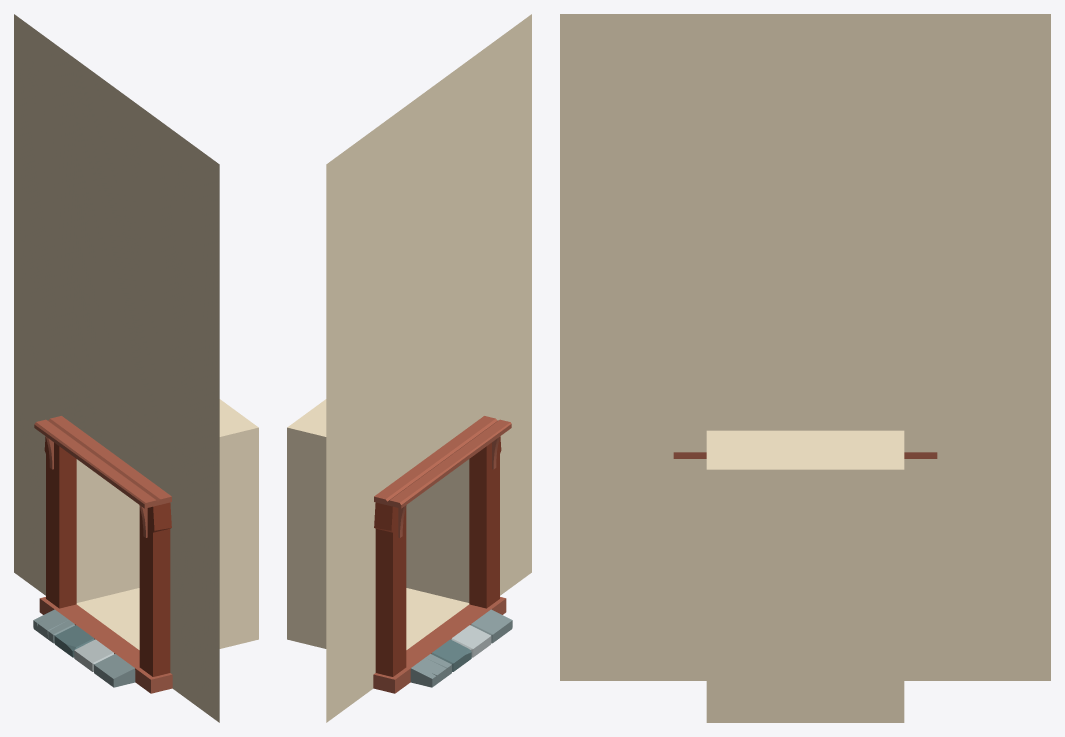
The model's file is SM_Chimeny.fbx.
The picture shows the model from 3 angles, left to right: view 1: azimuth 30°, elevation 25°; view 2: azimuth 150°, elevation 25°; view 3: azimuth 270°, elevation 25°; orthographic projection. The views are drawn at different scales.
Parts seen in each view (by area): view 1: Plane.010; view 2: Plane.010; view 3: Plane.010.
Boxes of the visible parts, left/top/right/bottom form: Plane.010: left=14, top=14, right=258, bottom=722; Plane.010: left=287, top=14, right=531, bottom=722; Plane.010: left=560, top=14, right=1050, bottom=722.
Bounding box in the file's own units: 162 × 600 × 400.
